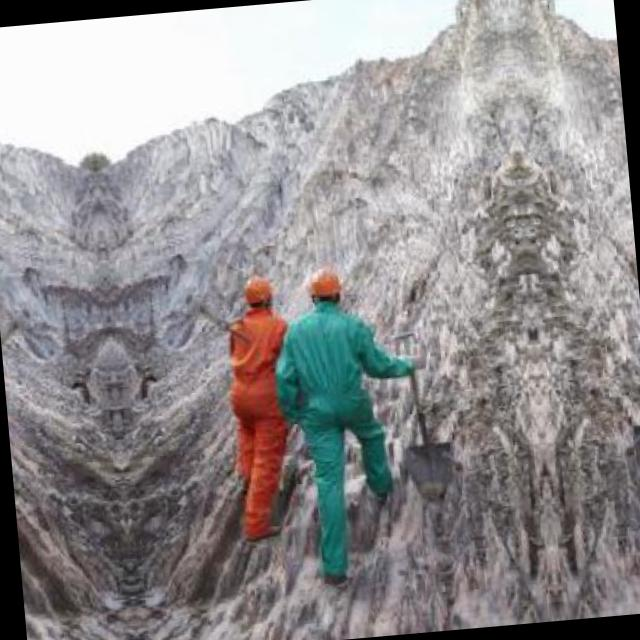helmet: (301, 262, 345, 310), (236, 270, 274, 316)
